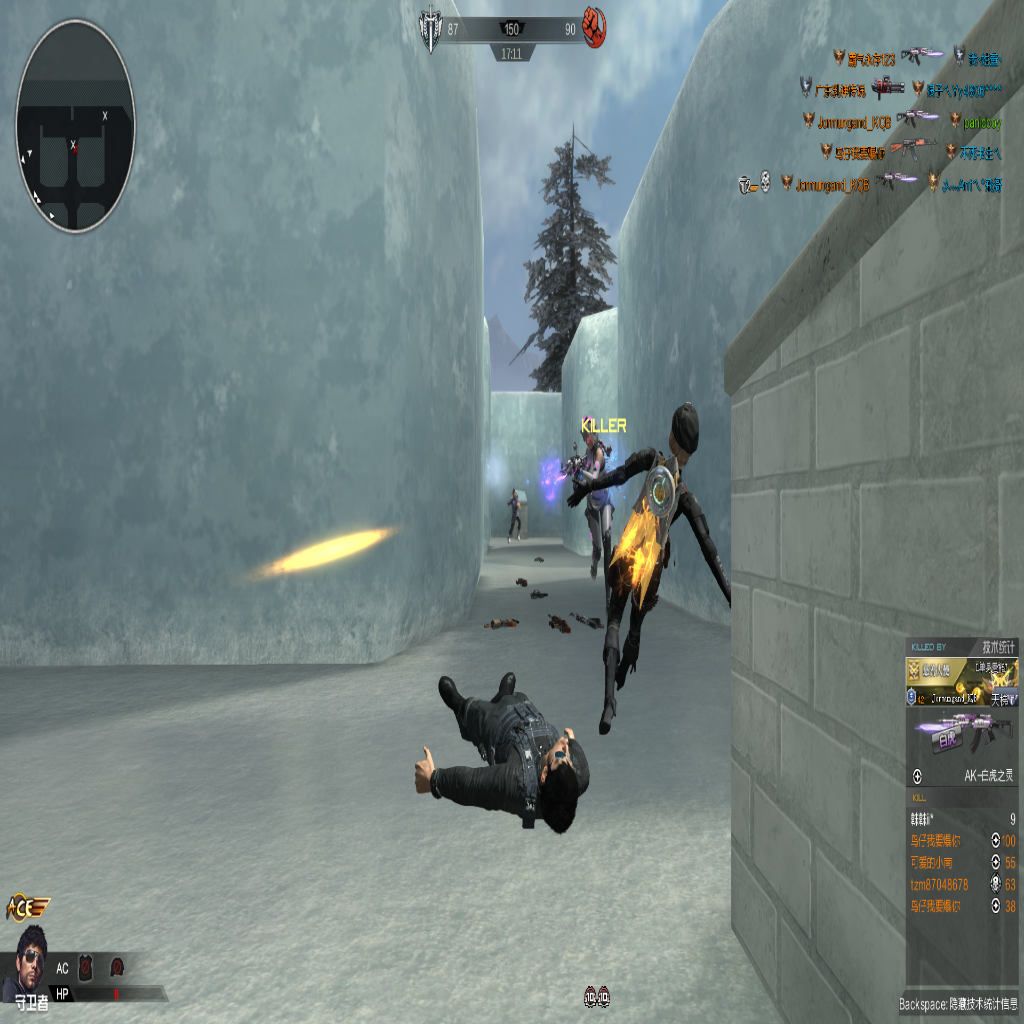tt: (506, 486, 523, 542)
